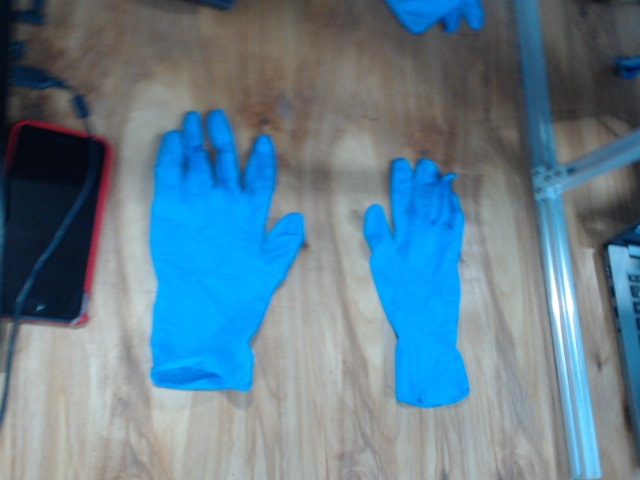medical_glove: (148, 108, 306, 394), (362, 158, 473, 406)
